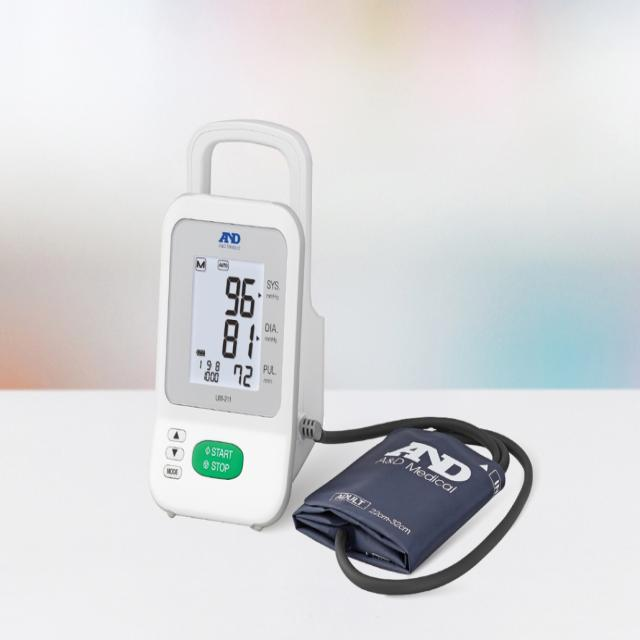dia: (214, 313, 261, 365), (227, 359, 257, 395)
ssd: (186, 255, 267, 392)
sys: (216, 265, 264, 325)
